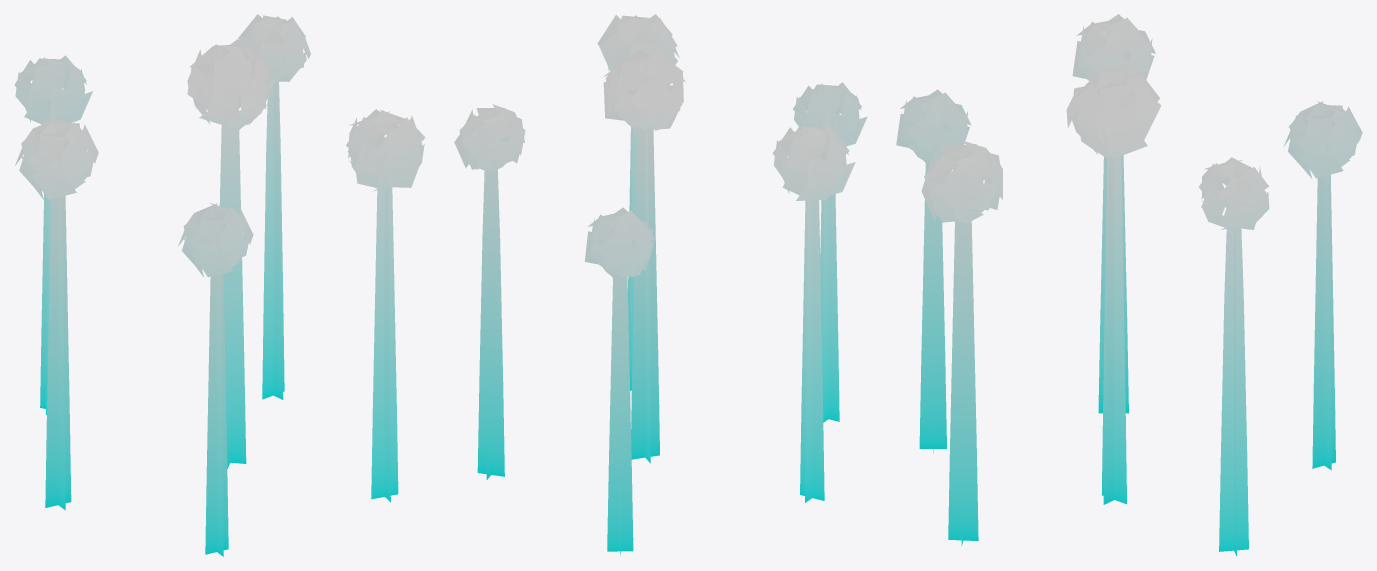
File: Flower_B1_0.8m_Cluster_02.fbx
3 views of the same model, side by side, from view 1: azimuth 30°, elevation 25°; view 2: azimuth 150°, elevation 25°; view 3: azimuth 270°, elevation 25° (orthographic). The views are drawn at different scales.
Visible parts, largest first — view 1: Flower_B1_0.8m_Cluster_02_LOD0; view 2: Flower_B1_0.8m_Cluster_02_LOD0; view 3: Flower_B1_0.8m_Cluster_02_LOD0.
Part boxes in pixels (bbox=[...]): Flower_B1_0.8m_Cluster_02_LOD0: bbox=[14, 14, 425, 556]; Flower_B1_0.8m_Cluster_02_LOD0: bbox=[454, 14, 867, 555]; Flower_B1_0.8m_Cluster_02_LOD0: bbox=[896, 14, 1362, 556].
Size of what is drawn, in the model's own units: 0.668 by 0.7956 by 0.7759.
